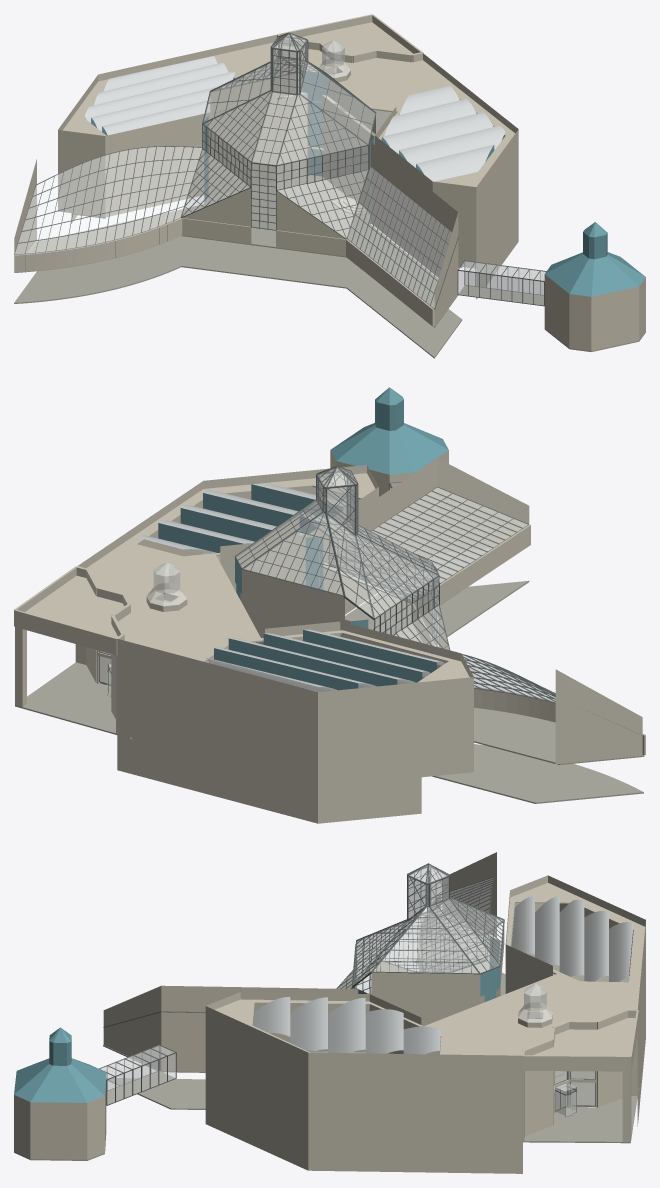
Rendered from MUDAM_P19_MALZEME_ISIK_v001_preview.glb.
3 views of the same model, one above another, from view 1: azimuth 30°, elevation 25°; view 2: azimuth 150°, elevation 25°; view 3: azimuth 270°, elevation 25° (orthographic). The views are drawn at different scales.
Visible parts, largest first — view 1: P05_ZONE_LM1_GALLERIES_FOYER, P05_MAIN_ROOF_DECK, P05_GALLERY_HALL_WEST1, P05_MAIN_ATRIUM_BASE_3, P05_EAST_HIGH, P04_PAV_WALL_ENVELOPE, P05_FRONT_0, P05_FLOOR_L00_GH, P05_GALLERY_HALL_WEST2, P05_MAIN_ATRIUM_BASE_5, P04_PAV_ROOF_SLOPE, P05_FLOOR_L00_WEST_CAFE (+20 smaller); view 2: P05_FRONT_9, P05_MAIN_ROOF_DECK, P05_FRONT_10, P05_ZONE_LM1_GALLERIES_FOYER, P05_EAST_HIGH, P05_WEST_END, P05_EAST_END, P05_GALLERY_HALL_WEST3, P04_PAV_ROOF_SLOPE, P07_CANOPY_PAVING_DISPLAY, P05_FLOOR_L00_WEST_CAFE, P07_CANOPY_SLAB_ENVELOPE (+25 smaller); view 3: P05_FRONT_1, P05_MAIN_ROOF_DECK, P05_FRONT_0, P04_PAV_WALL_ENVELOPE, P05_EAST_HIGH, P05_EAST_END, P04_PAV_ROOF_SLOPE, P07_CANOPY_PAVING_DISPLAY, P06_HIGH_EAVE_UPSTAND_5, P07_CANOPY_SLAB_ENVELOPE, P05_WEST_END, P07_ENTRY_RETURN_1 (+16 smaller).
Part boxes in pixels (x1,y1,x2,y2): P05_ZONE_LM1_GALLERIES_FOYER: (14,236,462,358); P05_MAIN_ROOF_DECK: (62,42,517,186); P05_GALLERY_HALL_WEST1: (105,112,212,217); P05_MAIN_ATRIUM_BASE_3: (208,93,307,196); P05_EAST_HIGH: (371,142,457,277); P04_PAV_WALL_ENVELOPE: (544,274,645,350); P05_FRONT_0: (476,129,518,299); P05_FLOOR_L00_GH: (182,176,370,257); P05_GALLERY_HALL_WEST2: (58,130,105,217); P05_MAIN_ATRIUM_BASE_5: (322,95,374,214); P04_PAV_ROOF_SLOPE: (545,252,645,296); P05_FLOOR_L00_WEST_CAFE: (14,204,202,272); P05_FRONT_9: (117,639,317,823); P05_MAIN_ROOF_DECK: (86,473,473,701); P05_FRONT_10: (318,682,421,823); P05_ZONE_LM1_GALLERIES_FOYER: (432,581,643,803); P05_EAST_HIGH: (319,458,437,614); P05_WEST_END: (555,669,642,764); P05_EAST_END: (437,458,529,552); P05_GALLERY_HALL_WEST3: (421,677,473,777); P04_PAV_ROOF_SLOPE: (330,423,448,474); P07_CANOPY_PAVING_DISPLAY: (15,662,117,734); P05_FLOOR_L00_WEST_CAFE: (474,707,644,764); P07_CANOPY_SLAB_ENVELOPE: (25,575,124,637); P05_FRONT_1: (308,1052,522,1173); P05_MAIN_ROOF_DECK: (207,883,645,1064); P05_FRONT_0: (205,1006,308,1170); P04_PAV_WALL_ENVELOPE: (14,1077,106,1159); P05_EAST_HIGH: (161,985,358,1071); P05_EAST_END: (103,986,161,1070); P04_PAV_ROOF_SLOPE: (14,1058,106,1102); P07_CANOPY_PAVING_DISPLAY: (523,1096,637,1143); P06_HIGH_EAVE_UPSTAND_5: (371,972,480,996); P07_CANOPY_SLAB_ENVELOPE: (533,1018,635,1055); P05_WEST_END: (442,852,496,937); P07_ENTRY_RETURN_1: (522,1039,553,1136).
Bounding box in the file's own units: 80.45 × 35.94 × 93.28.
